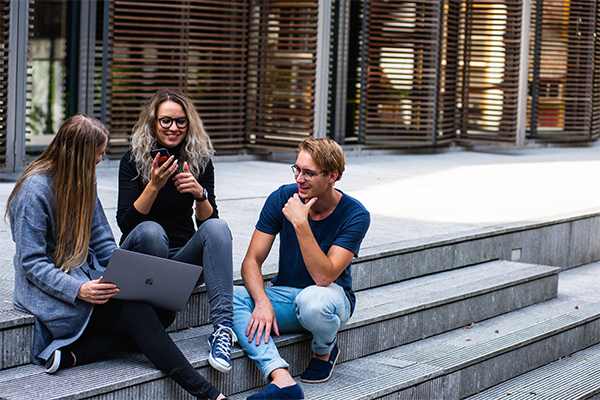without_mask: (157, 109, 188, 145), (292, 155, 319, 196)
